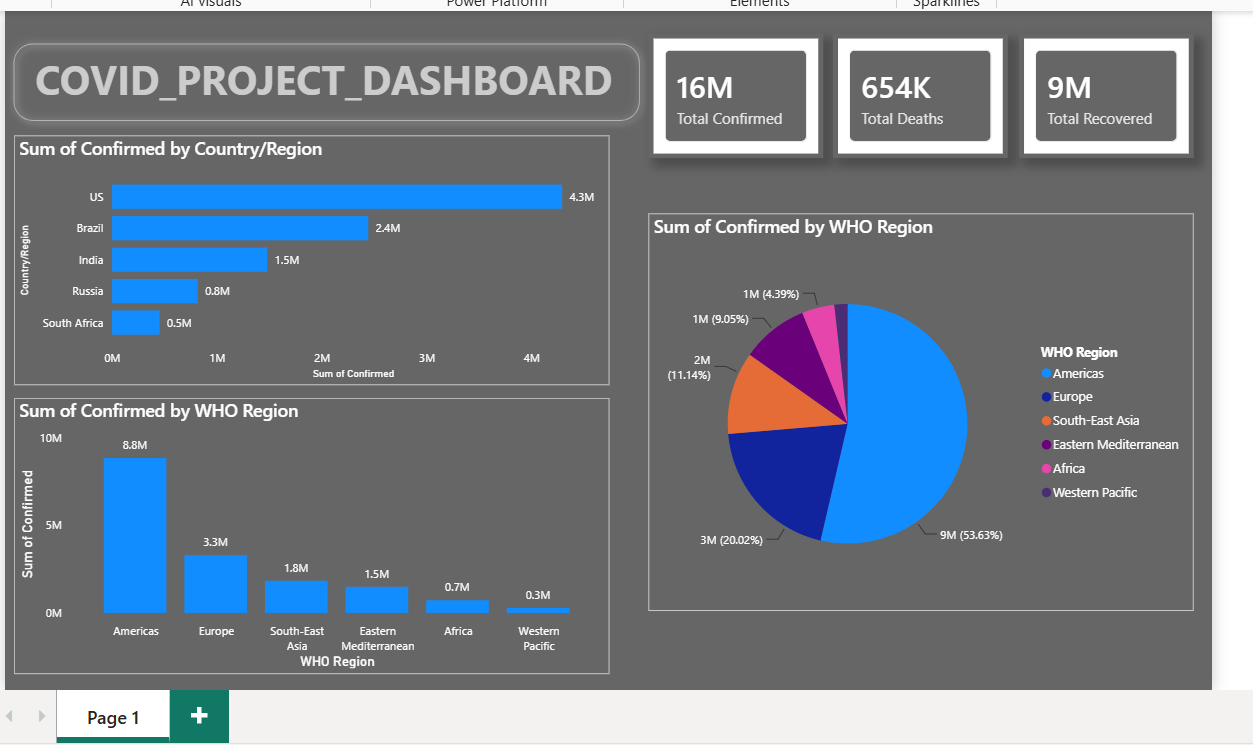

Layout of this report page (visuals, bound fields, positions):
{"tool":"powerbi","page":{"name":"Page 1","canvas":[1280,720],"ordinal":0},"visuals":[{"type":"cardVisual","fields":{"Data":["country_wise_latest.Total Confirmed"]},"box":[682.2,24.6,185.2,132.3],"z":0},{"type":"clusteredBarChart","fields":{"Category":["country_wise_latest.Country/Region"],"Y":["Sum(country_wise_latest.Confirmed)"]},"box":[9.4,132.3,631.2,264.6],"z":1000},{"type":"columnChart","fields":{"Category":["country_wise_latest.WHO Region"],"Y":["Sum(country_wise_latest.Confirmed)"]},"box":[9.4,410.1,631.2,292.9],"z":2000},{"type":"pieChart","fields":{"Category":["country_wise_latest.WHO Region"],"Y":["Sum(country_wise_latest.Confirmed)"]},"box":[682.2,215.4,578.3,421.4],"z":3000},{"type":"textbox","box":[26.5,37.8,631.2,73.7],"z":4000},{"type":"cardVisual","fields":{"Data":["country_wise_latest.Total Deaths"]},"box":[878.7,24.6,185.2,132.3],"z":5000},{"type":"cardVisual","fields":{"Data":["country_wise_latest.Total Recovered"]},"box":[1075.3,24.6,185.2,132.3],"z":6000},{"type":"shape","box":[0,24.6,682.2,100.2],"z":6001}]}

Visuals, with their boxes in screenshot pixels (x1, y1, x2, y2):
cardVisual - country_wise_latest.Total Confirmed: left=649, top=34, right=828, bottom=161
clusteredBarChart - country_wise_latest.Country/Region x Sum(country_wise_latest.Confirmed): left=0, top=138, right=609, bottom=393
columnChart - country_wise_latest.WHO Region x Sum(country_wise_latest.Confirmed): left=0, top=406, right=609, bottom=688
pieChart - country_wise_latest.WHO Region x Sum(country_wise_latest.Confirmed): left=649, top=218, right=1207, bottom=625
textbox: left=16, top=46, right=625, bottom=117
cardVisual - country_wise_latest.Total Deaths: left=838, top=34, right=1017, bottom=161
cardVisual - country_wise_latest.Total Recovered: left=1028, top=34, right=1207, bottom=161
shape: left=0, top=34, right=649, bottom=130
